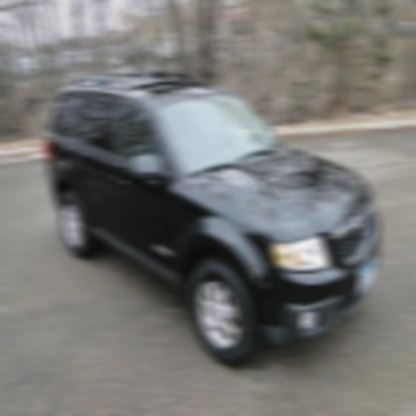Vehicle: (44, 70, 386, 374)
